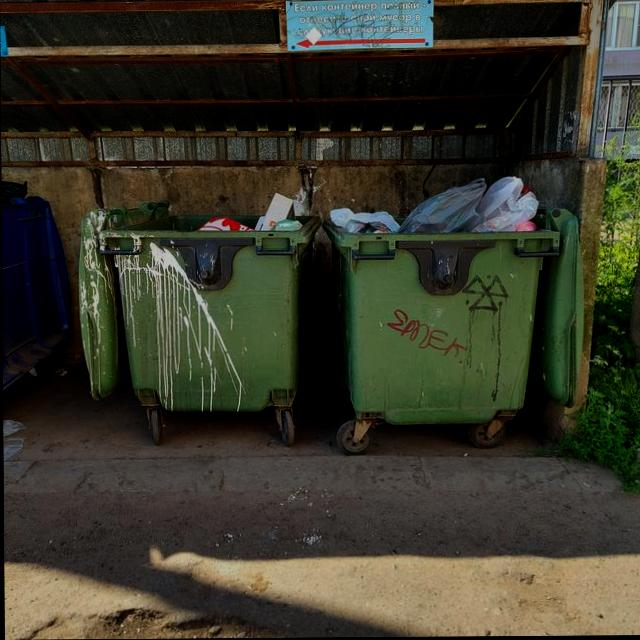Trash_Can_Full: (323, 176, 561, 427), (101, 194, 323, 414)
